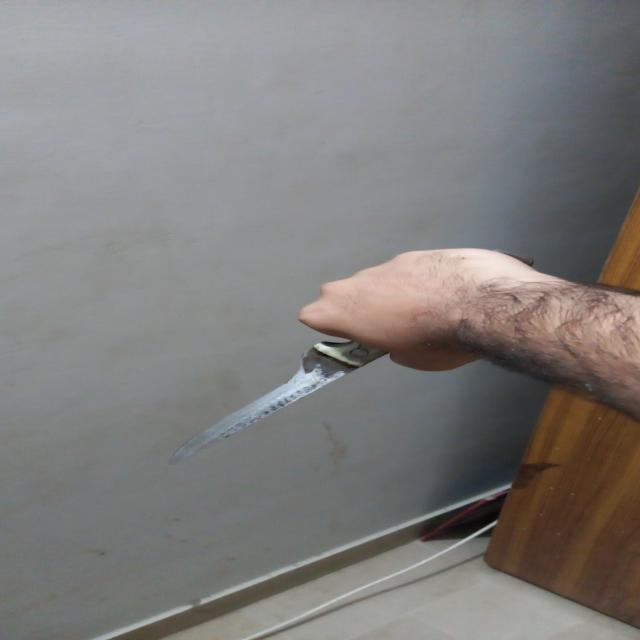Knife: (158, 320, 394, 469)
